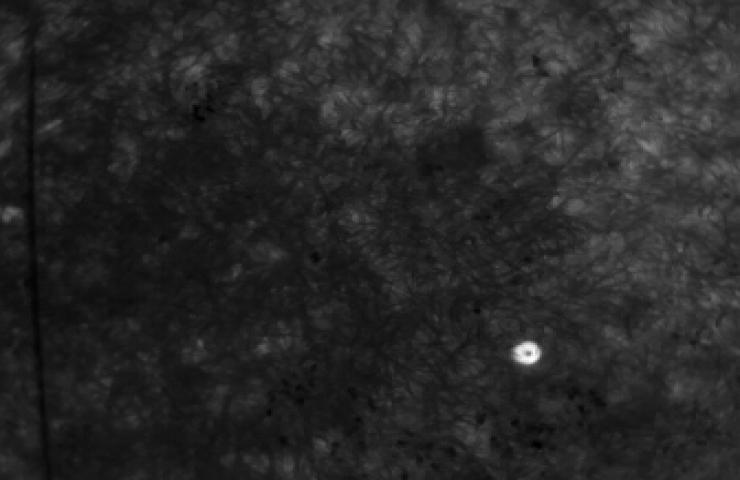landmines: (510, 339, 547, 370)
